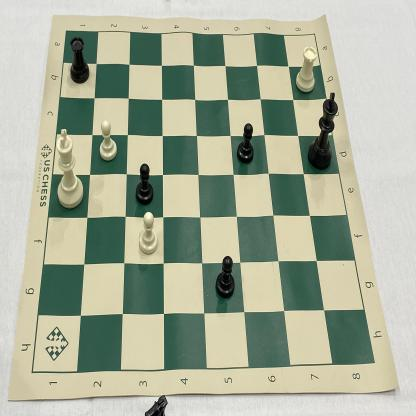black-king: (305, 89, 342, 177)
black-pawn: (210, 249, 239, 306), (232, 118, 258, 169), (131, 159, 157, 206)
black-rook: (65, 32, 93, 90)
white-king: (50, 124, 89, 214)
white-pawn: (135, 210, 162, 260), (96, 118, 121, 167)
white-rook: (292, 42, 319, 100)
